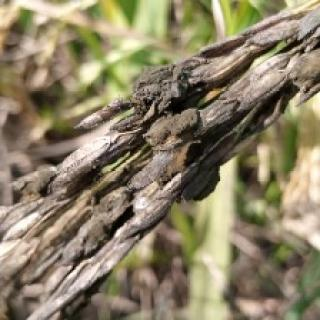Gosong-Palsu: (126, 58, 206, 108), (146, 110, 197, 144)
